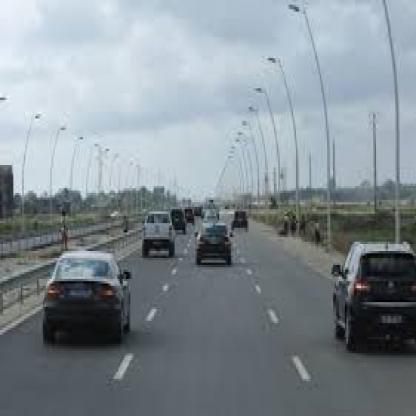car: (21, 229, 150, 348), (322, 231, 416, 354), (135, 204, 185, 266), (190, 216, 232, 277), (229, 197, 257, 244), (171, 196, 188, 239), (184, 202, 194, 226)
